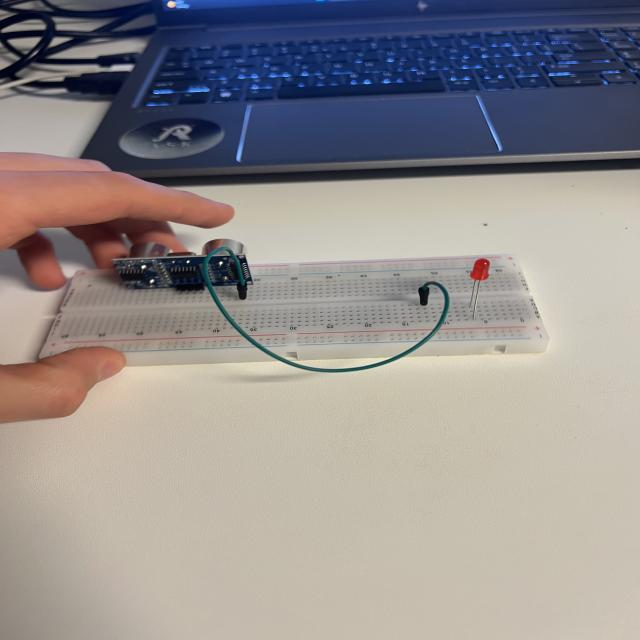BreadBoard: (75, 263, 569, 362)
REDLed: (467, 256, 490, 324)
UltrasoneSensor: (111, 239, 271, 294)
